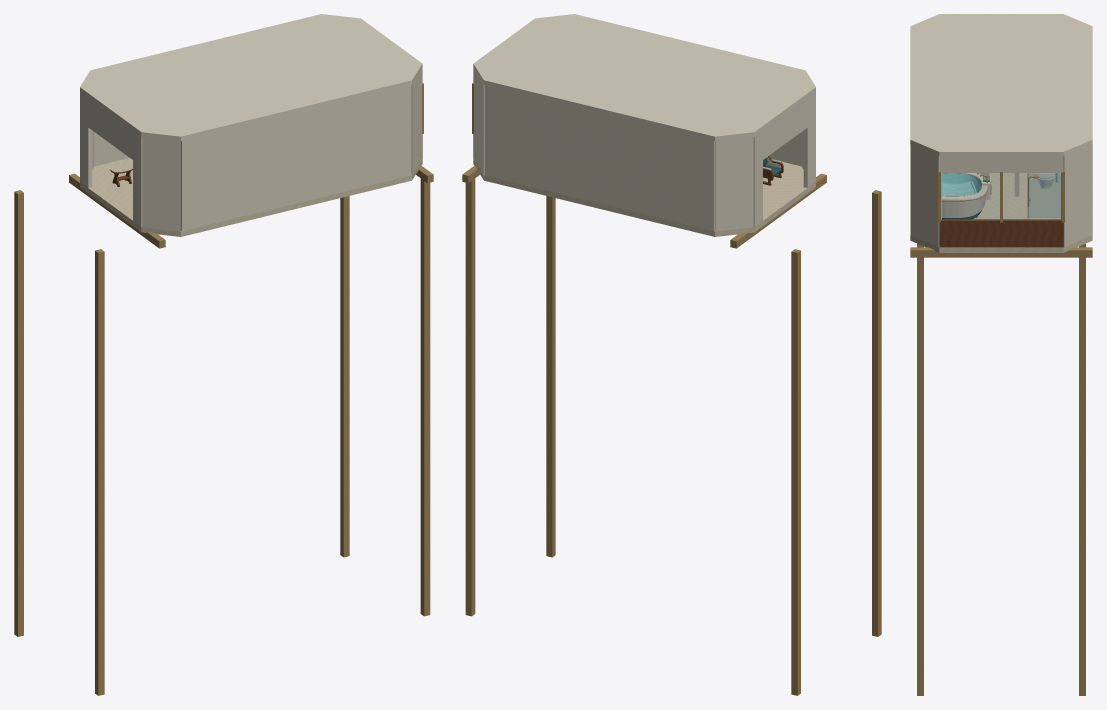
The model's file is D04_PORT_CENTRAL_HOME_989_r001.glb.
3 renders of one model, left to right at view 1: azimuth 30°, elevation 25°; view 2: azimuth 150°, elevation 25°; view 3: azimuth 270°, elevation 25°, orthographic.
Visible parts, largest first — view 1: PC989_D04H988_Roof, PC989_D04H988_Shell_3, PC989_D04H988_Pier_8, PC989_D04H988_Pier_5, PC989_D04H988_Pier_6, PC989_D04H988_Floor, PC989_D04H988_Pier_7, PC989_D04H988_Shell_2, PC989_D04H988_EntryHeader, PC989_D04H988_EntryWall_0, PC989_D04H988_Shell_4, PC989_D04H988_EntryWall_1 (+1 smaller); view 2: PC989_D04H988_Roof, PC989_D04H988_Shell_7, PC989_D04H988_Pier_7, PC989_D04H988_Pier_6, PC989_D04H988_Pier_5, PC989_D04H988_Pier_8, PC989_D04H988_Shell_0, PC989_D04H988_Floor, PC989_D04H988_EntryHeader, PC989_D04H988_EntryWall_1, PC989_D04H988_Shell_6, PC989_D04H988_EntryWall_0 (+1 smaller); view 3: PC989_D04H988_Roof, PC989_D04H988_GardenGlass, PC989_D04H988_Floor, PC989_D04H988_GardenDado, PC989_D04H988_Pier_7, PC989_D04H988_Pier_8, PC989_D04H988_Shell_4, PC989_D04H988_Shell_6, PC989_D04H988_GardenHead, PC989_ReservedAquaticRest_2__Hollow continuous basin shell w, PC989_Shower__SHW_SideGlass, PC989_D04H988_Long_-29.35 (+2 smaller).
Part boxes in pixels (bbox=[...]): PC989_D04H988_Roof: bbox=[80, 14, 422, 141]; PC989_D04H988_Shell_3: bbox=[180, 85, 411, 231]; PC989_D04H988_Pier_8: bbox=[420, 169, 430, 616]; PC989_D04H988_Pier_5: bbox=[14, 190, 23, 636]; PC989_D04H988_Pier_6: bbox=[95, 249, 104, 695]; PC989_D04H988_Floor: bbox=[80, 158, 422, 236]; PC989_D04H988_Pier_7: bbox=[340, 196, 349, 557]; PC989_D04H988_Shell_2: bbox=[142, 137, 180, 231]; PC989_D04H988_EntryHeader: bbox=[88, 98, 132, 159]; PC989_D04H988_EntryWall_0: bbox=[80, 92, 92, 187]; PC989_D04H988_Shell_4: bbox=[411, 69, 422, 174]; PC989_D04H988_EntryWall_1: bbox=[133, 131, 142, 226]; PC989_D04H988_Roof: bbox=[473, 14, 815, 141]; PC989_D04H988_Shell_7: bbox=[484, 85, 715, 231]; PC989_D04H988_Pier_7: bbox=[465, 169, 475, 616]; PC989_D04H988_Pier_6: bbox=[872, 190, 881, 636]; PC989_D04H988_Pier_5: bbox=[791, 249, 800, 695]; PC989_D04H988_Pier_8: bbox=[546, 196, 555, 557]; PC989_D04H988_Shell_0: bbox=[715, 137, 753, 231]; PC989_D04H988_Floor: bbox=[473, 159, 815, 236]; PC989_D04H988_EntryHeader: bbox=[763, 98, 807, 159]; PC989_D04H988_EntryWall_1: bbox=[803, 92, 815, 187]; PC989_D04H988_Shell_6: bbox=[473, 69, 484, 174]; PC989_D04H988_EntryWall_0: bbox=[753, 131, 762, 226]; PC989_D04H988_Roof: bbox=[910, 14, 1092, 156]; PC989_D04H988_GardenGlass: bbox=[942, 173, 1060, 220]; PC989_D04H988_Floor: bbox=[910, 173, 1092, 252]; PC989_D04H988_GardenDado: bbox=[939, 219, 1063, 247]; PC989_D04H988_Pier_7: bbox=[1079, 247, 1085, 695]; PC989_D04H988_Pier_8: bbox=[917, 247, 923, 695]; PC989_D04H988_Shell_4: bbox=[911, 144, 941, 246]; PC989_D04H988_Shell_6: bbox=[1061, 144, 1091, 246]; PC989_D04H988_GardenHead: bbox=[939, 156, 1063, 172]; PC989_ReservedAquaticRest_2__Hollow continuous basin shell w: bbox=[942, 173, 987, 219]; PC989_Shower__SHW_SideGlass: bbox=[1028, 173, 1060, 217]; PC989_D04H988_Long_-29.35: bbox=[910, 247, 1092, 257].
Bounding box in the file's own units: 15.42 × 23.78 × 7.2.
Materials: 51 (21 with a texture image).
